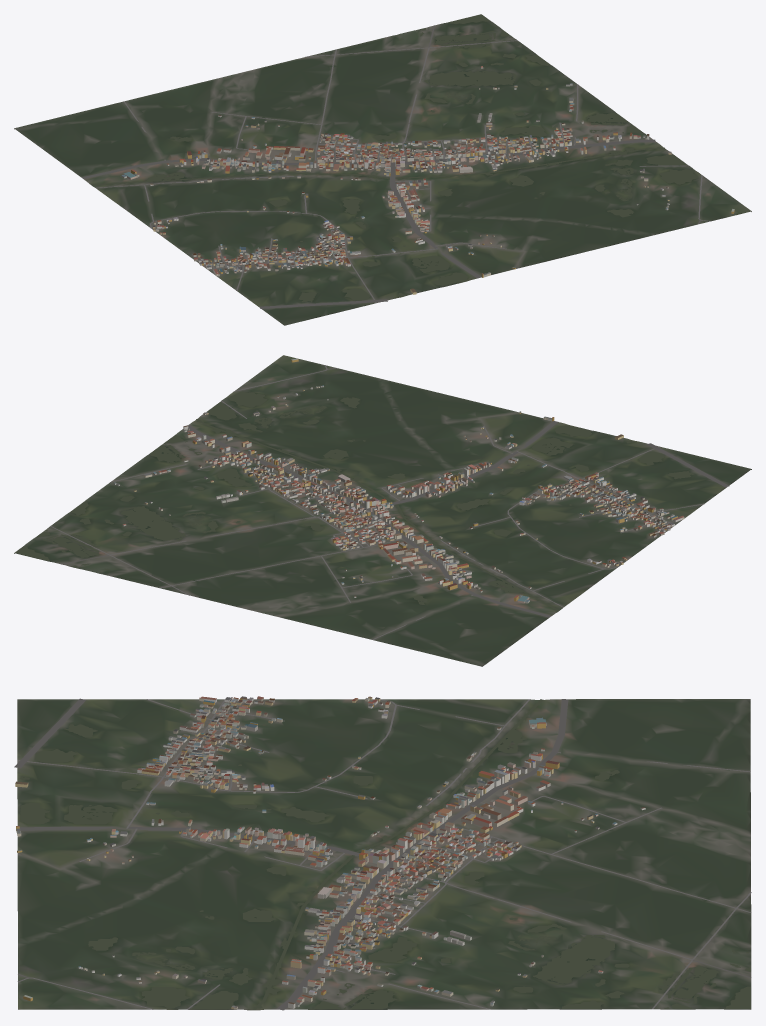
3 renders of one model, top to bottom at view 1: azimuth 30°, elevation 25°; view 2: azimuth 150°, elevation 25°; view 3: azimuth 270°, elevation 25°, orthographic. The views are drawn at different scales.
Parts seen in each view (by area): view 1: ground, buildings, water, roads; view 2: ground, buildings, water, roads; view 3: ground, buildings, water, roads.
Boxes of the visible parts, x1,y1,x2,y2 form: ground: [14, 20, 751, 325]; buildings: [121, 66, 734, 294]; water: [91, 14, 698, 302]; roads: [81, 25, 710, 308]; ground: [14, 355, 751, 666]; buildings: [113, 358, 684, 603]; water: [15, 391, 694, 610]; roads: [50, 365, 729, 639]; ground: [17, 699, 751, 1010]; buildings: [15, 696, 645, 1009]; water: [20, 699, 750, 1010]; roads: [14, 698, 751, 1010].
Size of the model in its own units: 1411 by 24.16 by 1411.
